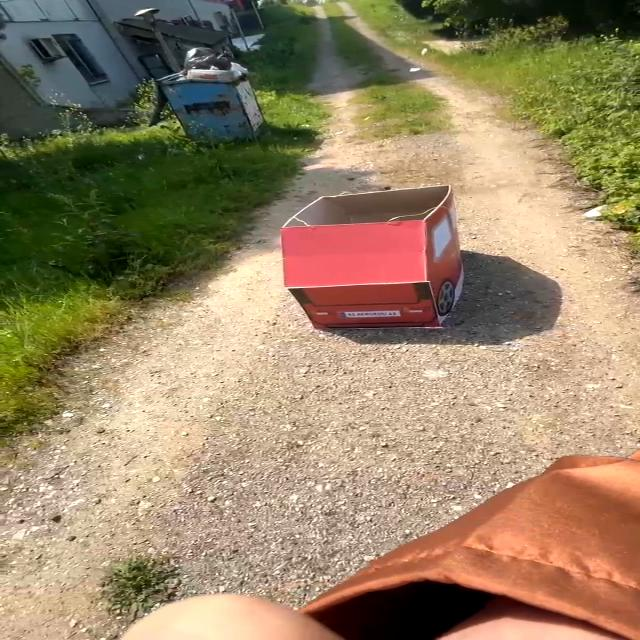red_car: (261, 183, 479, 358)
